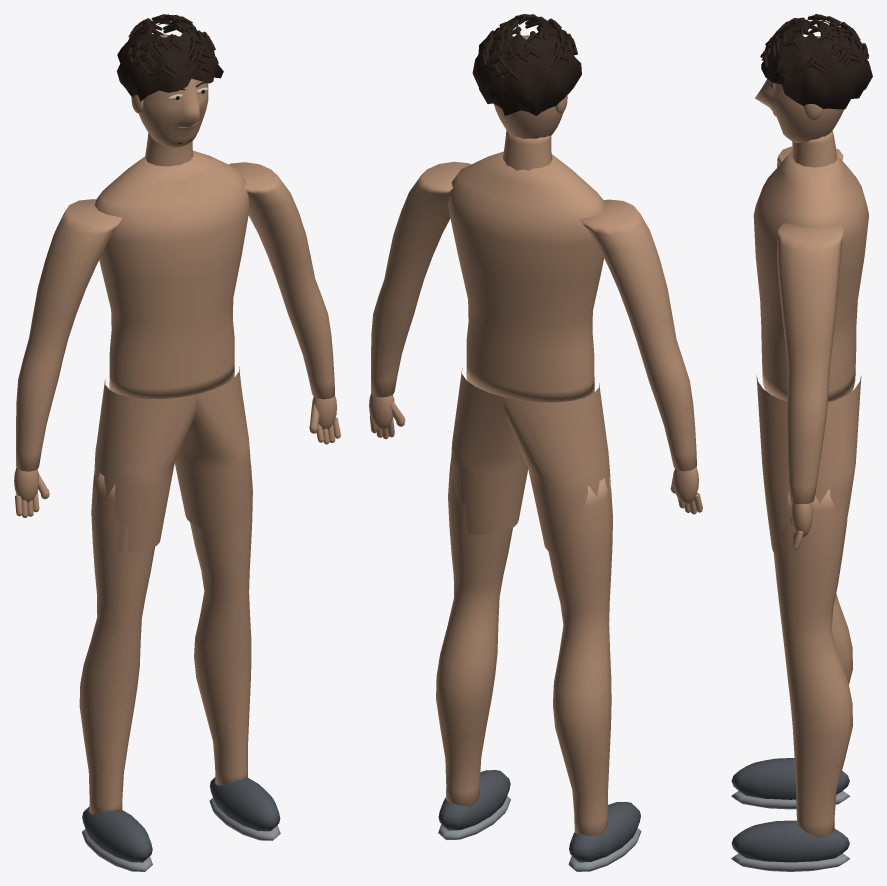
Rendered from toufic_body_lod2.glb.
3 renders of one model, left to right at view 1: azimuth 30°, elevation 25°; view 2: azimuth 150°, elevation 25°; view 3: azimuth 270°, elevation 25°, orthographic. The views are drawn at different scales.
Visible parts, largest first — view 1: BODY_SKIN, HAIR, SHOES, HEAD, SOLES; view 2: BODY_SKIN, HAIR, SHOES, HEAD, SOLES; view 3: BODY_SKIN, HAIR, SHOES, HEAD, SOLES.
Boxes of the visible parts, bbox=[...] form: BODY_SKIN: bbox=[14, 133, 340, 814]; HAIR: bbox=[117, 14, 223, 101]; SHOES: bbox=[82, 777, 280, 862]; HEAD: bbox=[131, 34, 208, 147]; SOLES: bbox=[82, 798, 280, 871]; BODY_SKIN: bbox=[369, 130, 702, 836]; HAIR: bbox=[472, 14, 581, 115]; SHOES: bbox=[438, 770, 640, 862]; HEAD: bbox=[494, 35, 567, 138]; SOLES: bbox=[438, 796, 641, 871]; BODY_SKIN: bbox=[753, 130, 868, 837]; HAIR: bbox=[760, 14, 872, 109]; SHOES: bbox=[731, 758, 849, 862]; HEAD: bbox=[755, 36, 843, 142]; SOLES: bbox=[731, 791, 849, 871].
Bounding box in the file's own units: 0.762 × 1.83 × 0.2877.
